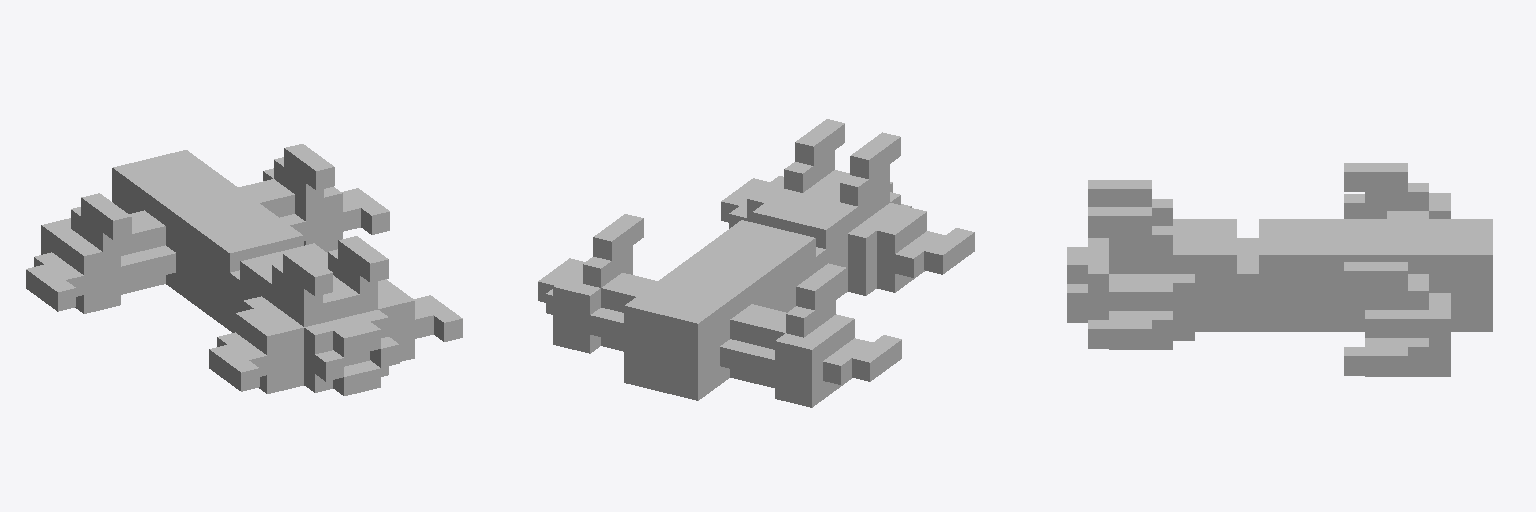
The model's file is Enemy3.5.obj.
The picture shows the model from 3 angles: view 1: azimuth 30°, elevation 25°; view 2: azimuth 150°, elevation 25°; view 3: azimuth 270°, elevation 25°; orthographic projection.
Bounding box in the file's own units: 18 × 6 × 20.